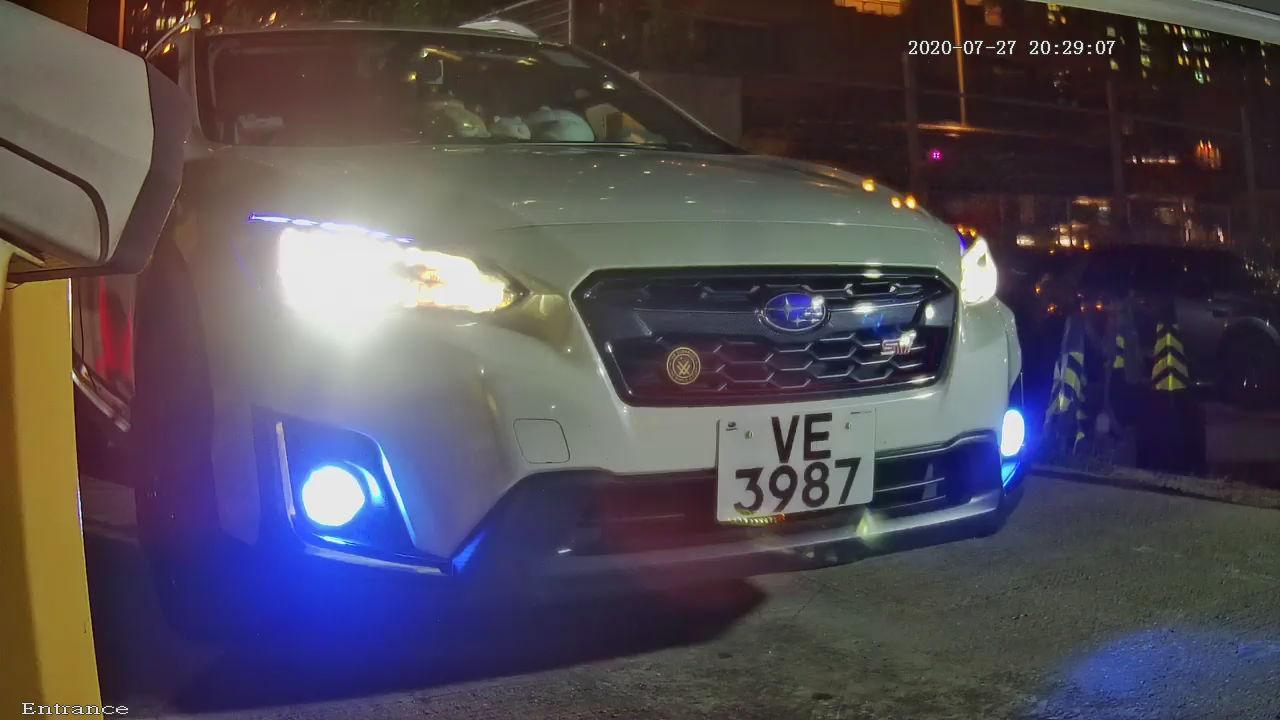privatecar: (98, 7, 1092, 669)
